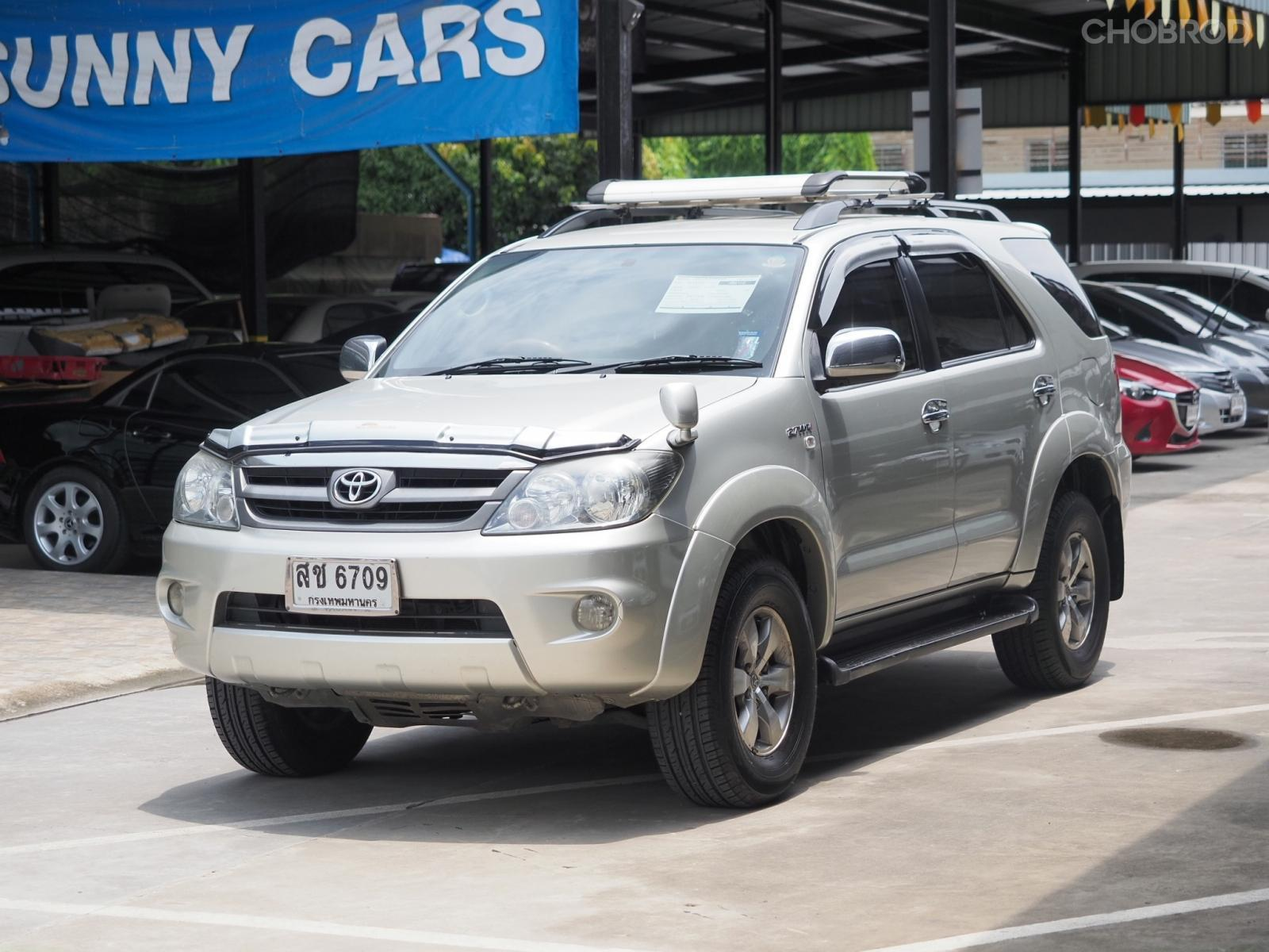license-plate: (282, 558, 403, 613)
